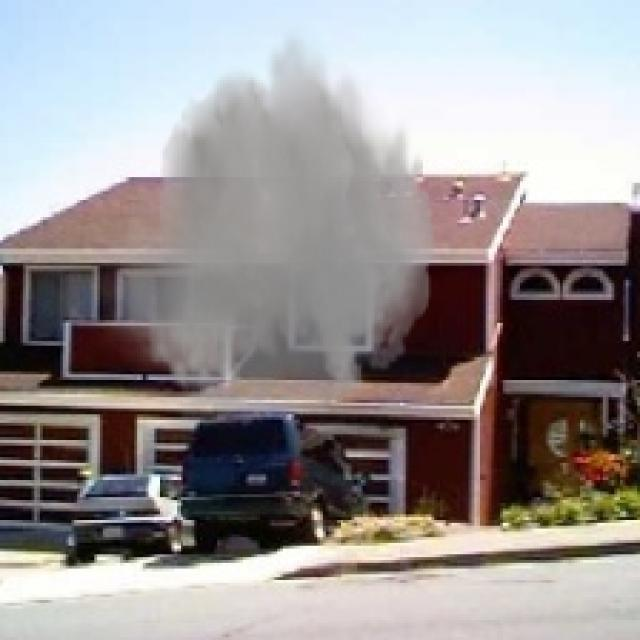Smoke: (91, 20, 443, 446)
